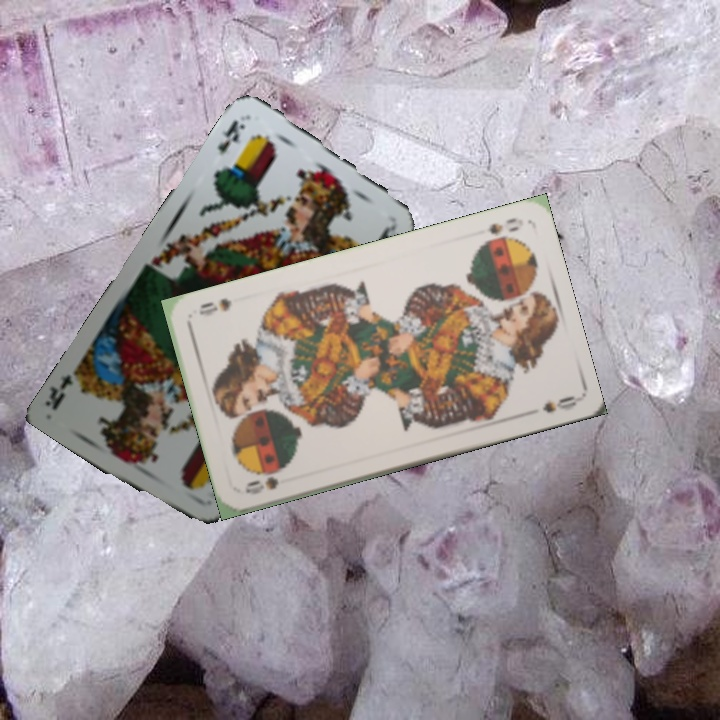EK: (213, 116, 248, 158)
SO: (480, 213, 522, 245), (241, 472, 281, 497)
